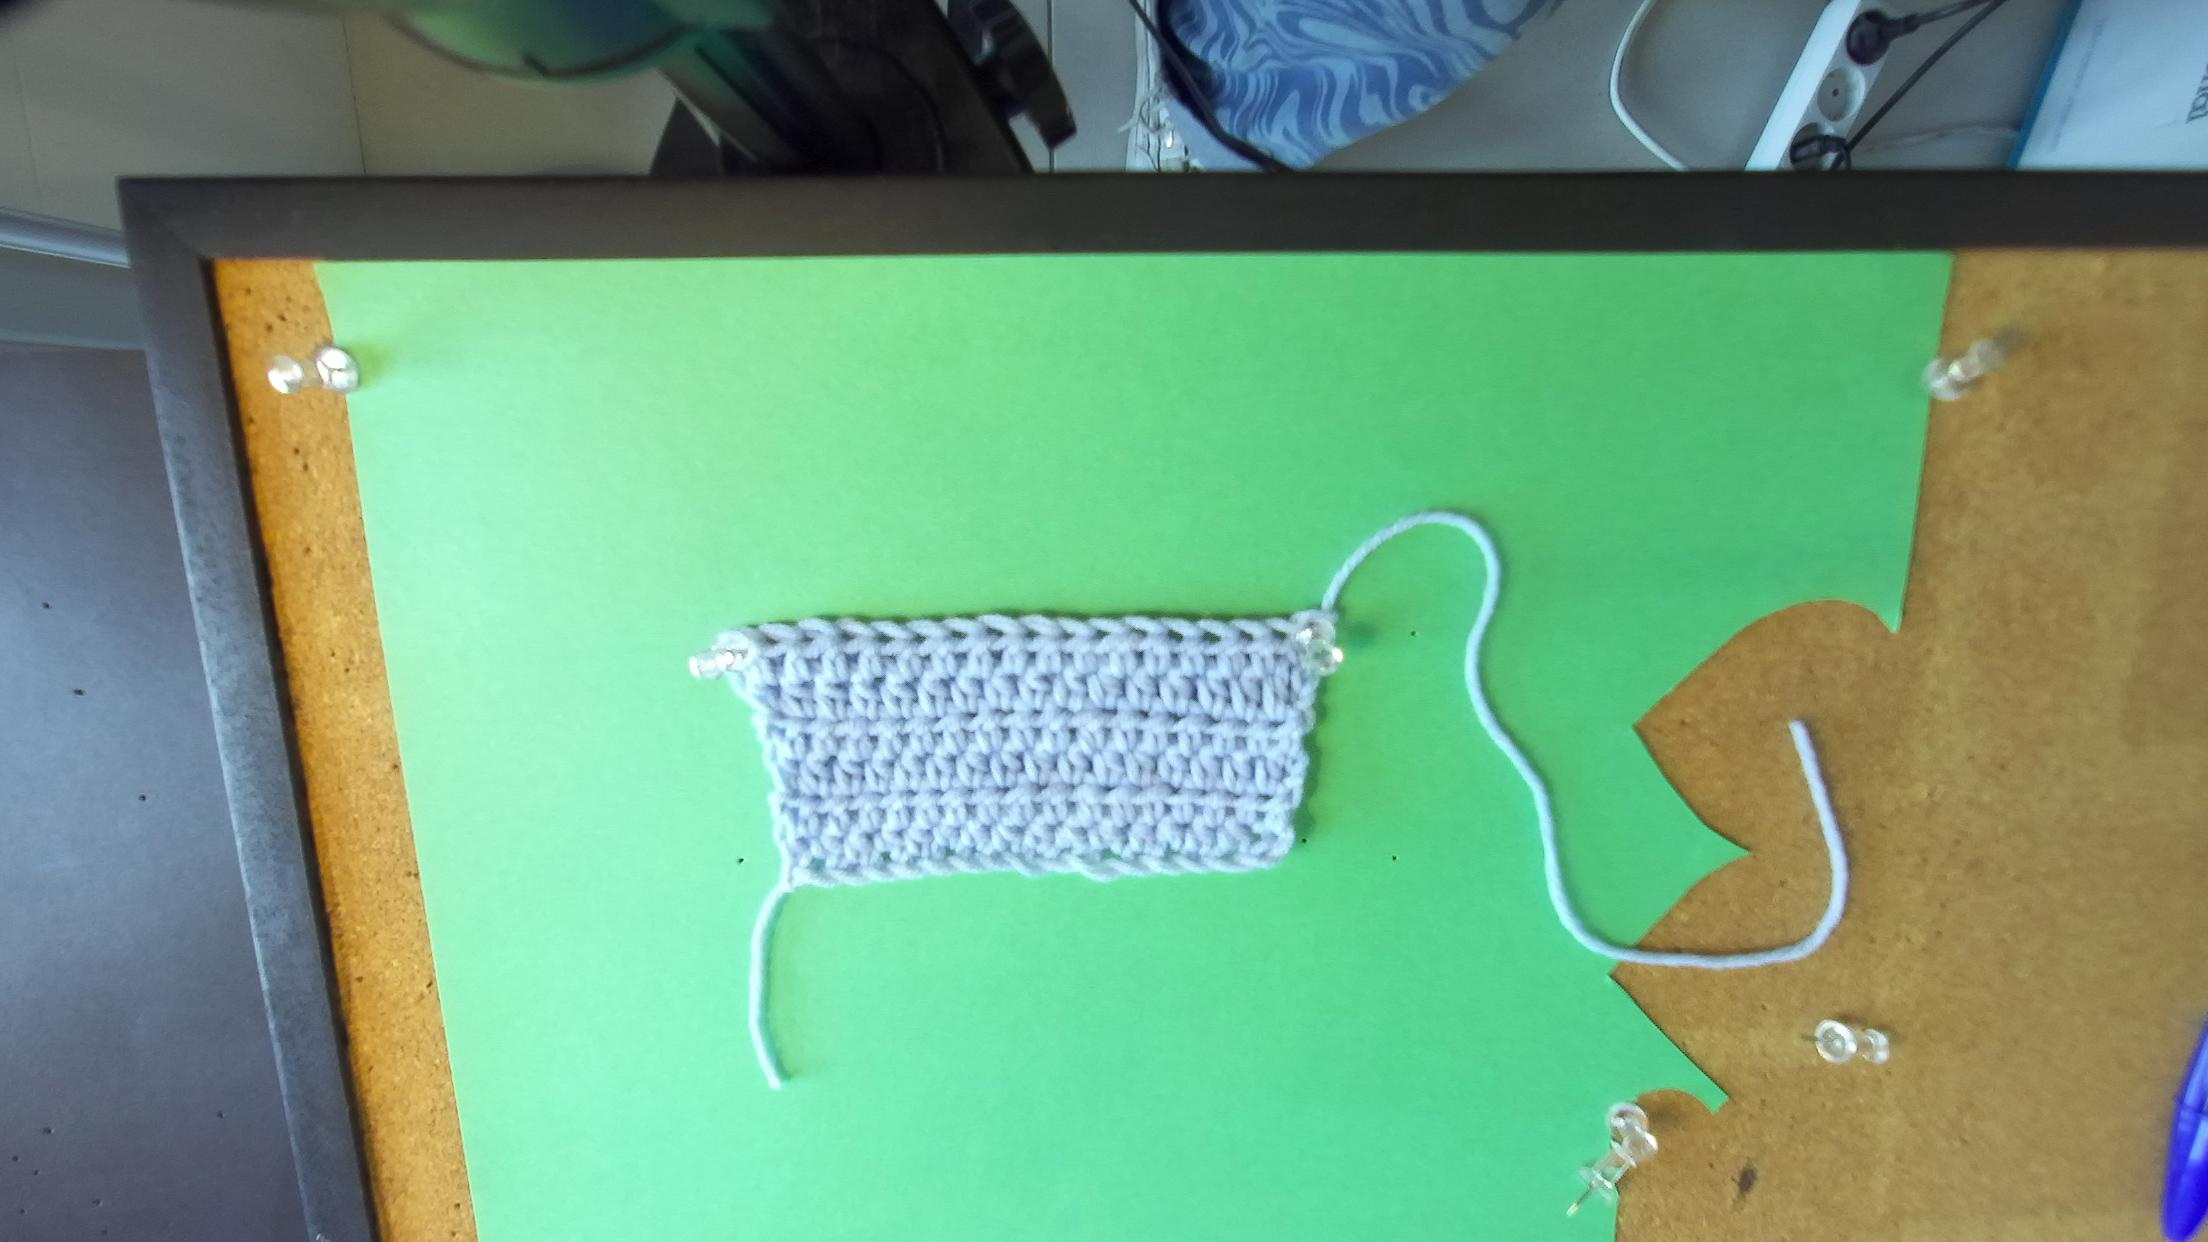hole: (872, 631, 896, 645), (1203, 629, 1222, 646), (986, 626, 1007, 640), (1271, 626, 1286, 643), (763, 632, 781, 646), (840, 628, 858, 641), (911, 631, 930, 645), (1128, 628, 1148, 640), (1166, 629, 1183, 643), (1059, 631, 1077, 643), (1092, 629, 1112, 640), (1024, 628, 1040, 640), (798, 634, 819, 643), (1240, 629, 1254, 643), (951, 631, 971, 638)
swatch: (692, 614, 1339, 898)
